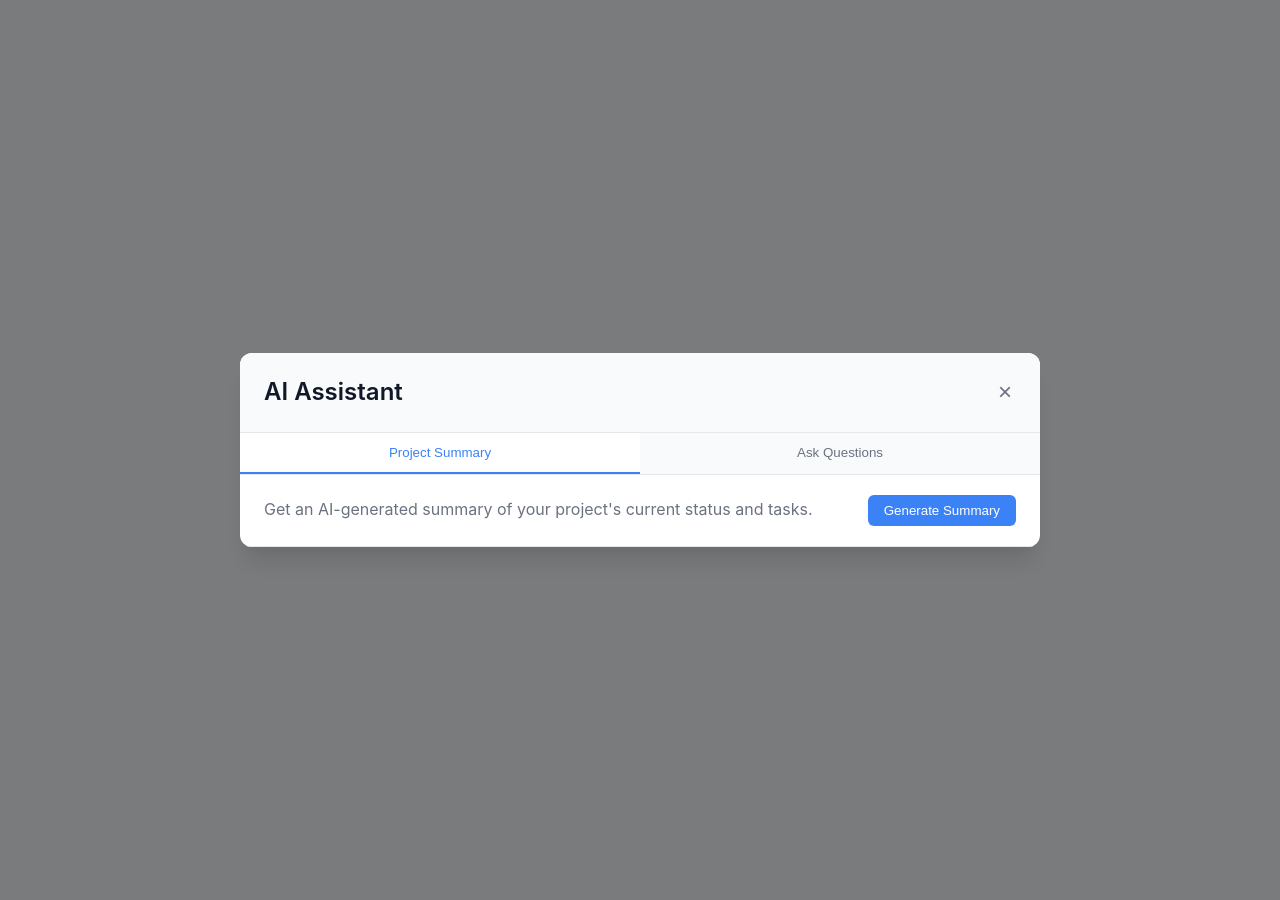
Test: AiAssistant Component › Project Summary Tab › handles summary generation error
Click the button "Generate Summary".
click(942, 510)  # box [868,495,1016,526]
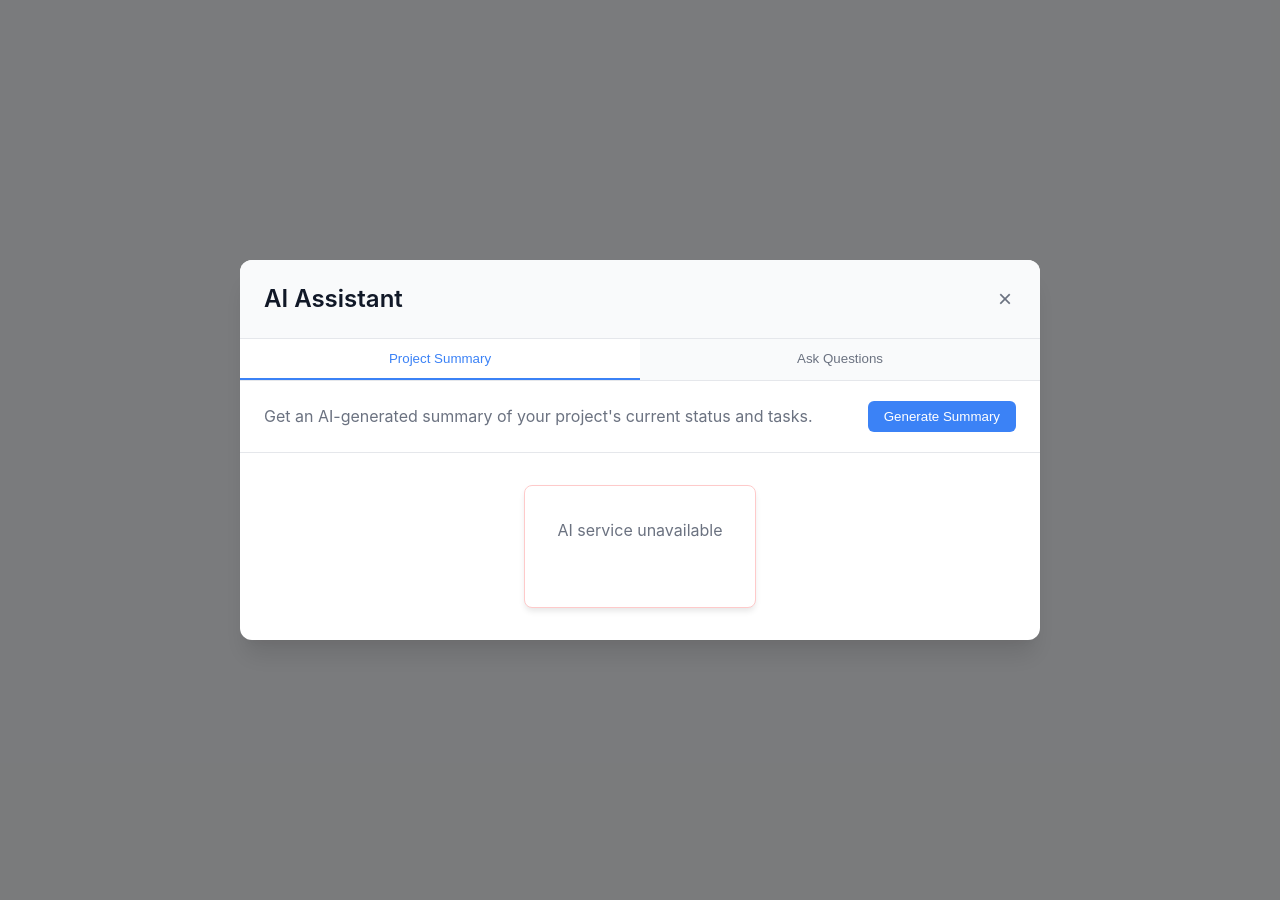
Now the text "AI service unavailable" is shown, box [558,518,722,544]
